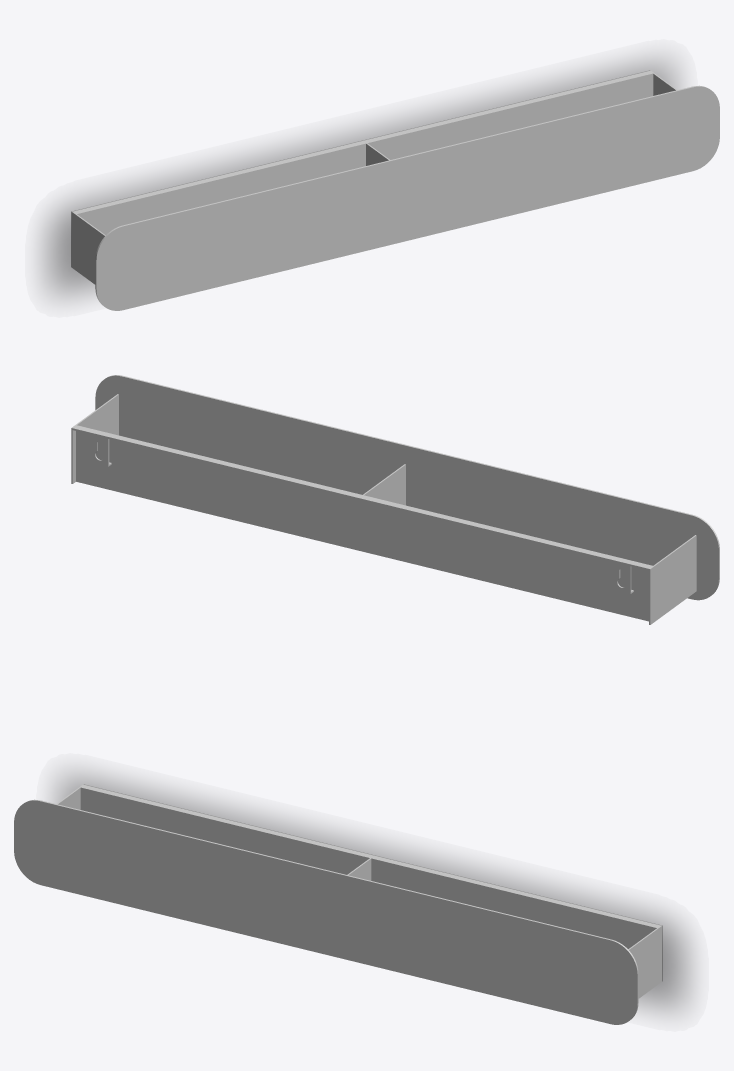
Rendered from radius-mono.17c8e35b8f.ar.glb.
3 renders of one model, top to bottom at view 1: azimuth 30°, elevation 25°; view 2: azimuth 150°, elevation 25°; view 3: azimuth 330°, elevation 25°, orthographic.
Visible parts, largest first — view 1: NAUO1, object 2; view 2: NAUO1; view 3: NAUO1, object 2.
Boxes of the visible parts, x1,y1,x2,y2 form: NAUO1: [71, 70, 719, 310]; object 2: [42, 59, 679, 297]; NAUO1: [71, 375, 719, 624]; NAUO1: [14, 784, 662, 1024]; object 2: [54, 773, 691, 1011].
Size of the model in its own units: 0.78 by 0.17 by 0.092.
2 materials, 1 textured.
